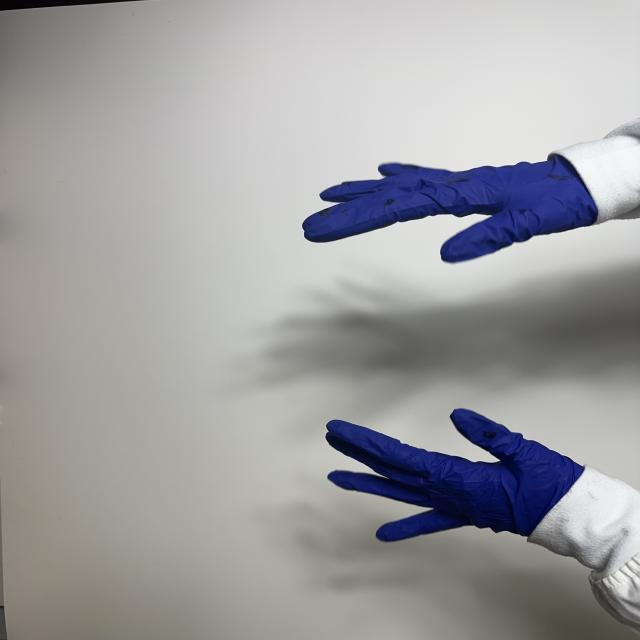gloves_contaminated: (326, 409, 585, 541), (303, 158, 597, 262)
